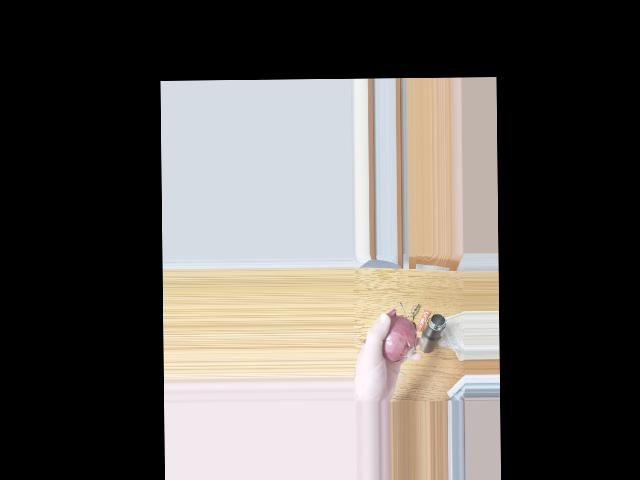onion: (376, 320, 416, 362)
